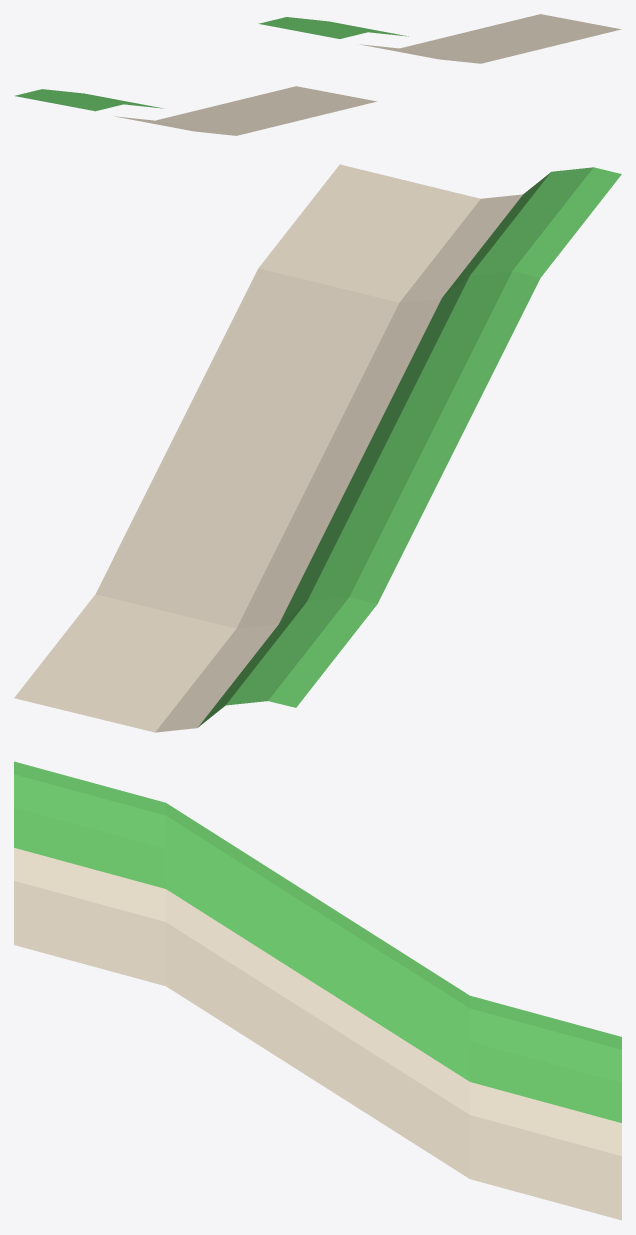
File: Hilly_Terrain_Path_Hill_Sharp_Plain_Side.glb
3 views of the same model, one above another, from view 1: azimuth 30°, elevation 25°; view 2: azimuth 150°, elevation 25°; view 3: azimuth 270°, elevation 25° (orthographic). The views are drawn at different scales.
Parts seen in each view (by area): view 1: Hilly_Terrain_Path_Hill_Sharp_Plain_Side; view 2: Hilly_Terrain_Path_Hill_Sharp_Plain_Side; view 3: Hilly_Terrain_Path_Hill_Sharp_Plain_Side.
Boxes of the visible parts, bbox=[...] form: Hilly_Terrain_Path_Hill_Sharp_Plain_Side: bbox=[15, 14, 621, 135]; Hilly_Terrain_Path_Hill_Sharp_Plain_Side: bbox=[14, 164, 621, 732]; Hilly_Terrain_Path_Hill_Sharp_Plain_Side: bbox=[14, 761, 621, 1220].
Bounding box in the file's own units: 1 × 1.2 × 2.
